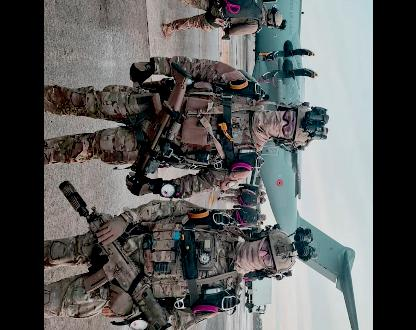A400M: (248, 0, 360, 327)
